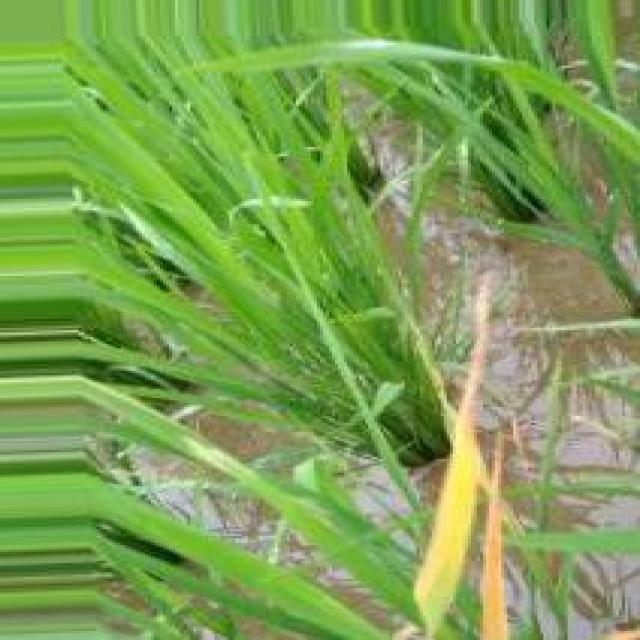Rice Tungro: (414, 275, 488, 639), (481, 431, 509, 639)
